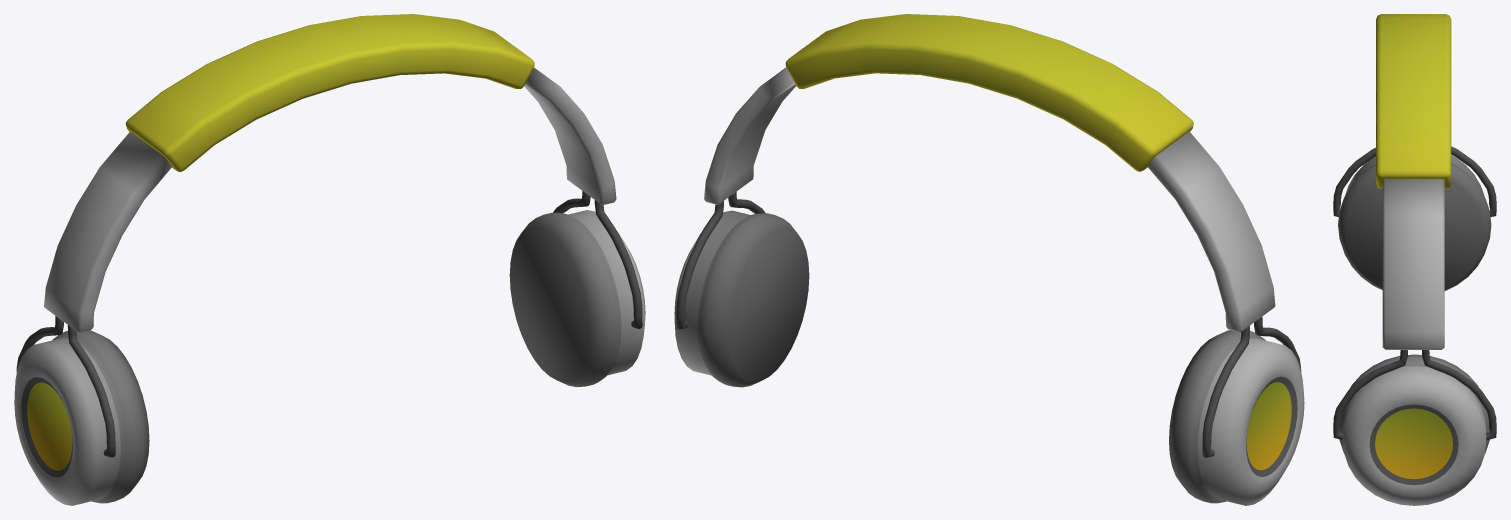
Rendered from earphone3.fbx.
3 views of the same model, side by side, from view 1: azimuth 30°, elevation 25°; view 2: azimuth 150°, elevation 25°; view 3: azimuth 270°, elevation 25° (orthographic). The views are drawn at different scales.
Visible parts, largest first — view 1: Plane.003; view 2: Plane.003; view 3: Plane.003.
Part boxes in pixels (x1,y1,x2,y2): Plane.003: (14,14,645,505); Plane.003: (674,14,1304,505); Plane.003: (1333,14,1496,505).
Bounding box in the file's own units: 88.17 × 304 × 206.
